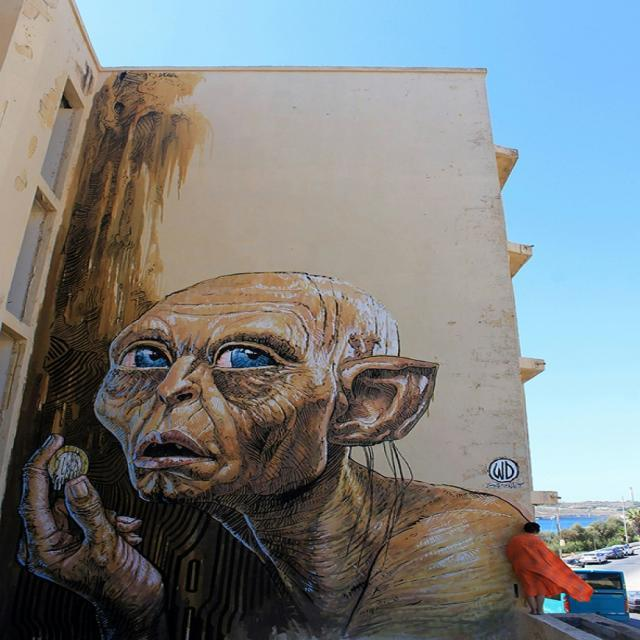-: (13, 271, 528, 640)
